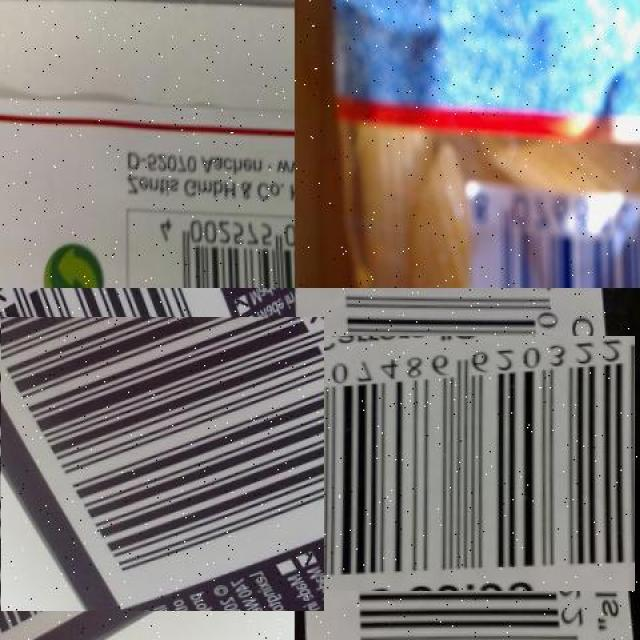Barcode: (0, 302, 310, 625), (308, 312, 611, 616), (451, 180, 640, 288), (120, 215, 295, 288)
